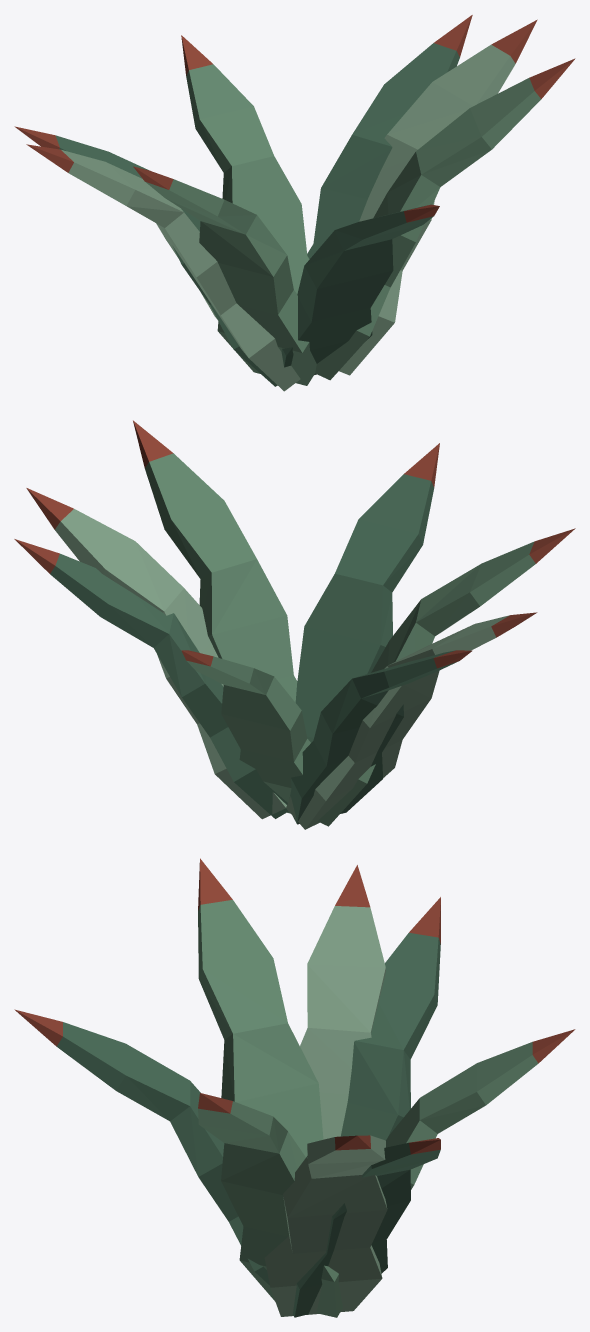
Rendered from aloe.gltf.
3 views of the same model, one above another, from view 1: azimuth 30°, elevation 25°; view 2: azimuth 150°, elevation 25°; view 3: azimuth 270°, elevation 25° (orthographic). The views are drawn at different scales.
Visible parts, largest first — view 1: aloe; view 2: aloe; view 3: aloe.
Part boxes in pixels (x1=…): aloe: x1=14, y1=15, x2=575, y2=391; aloe: x1=14, y1=420, x2=575, y2=829; aloe: x1=14, y1=858, x2=575, y2=1317.
Bounding box in the file's own units: 0.3234 × 0.1803 × 0.2833.
